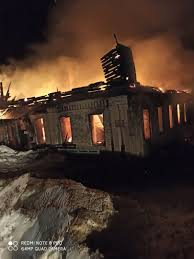fire: (20, 44, 188, 142)
